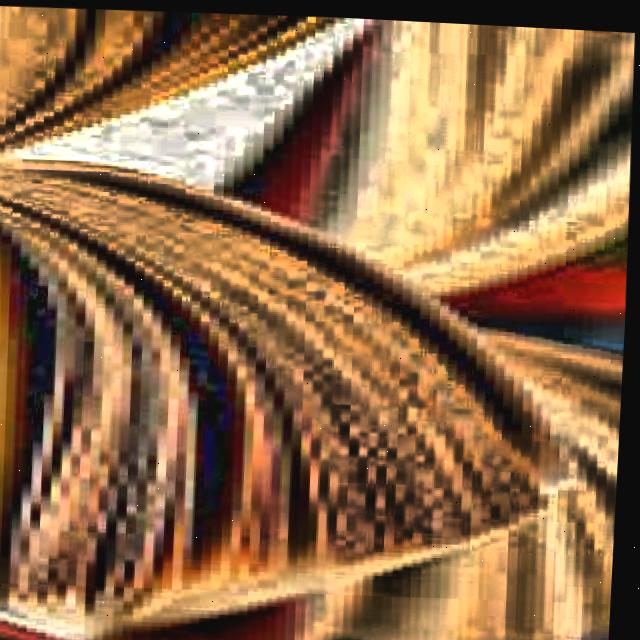paper: (0, 0, 621, 640), (136, 7, 640, 640), (359, 312, 628, 640), (417, 17, 639, 294), (484, 20, 639, 314)
